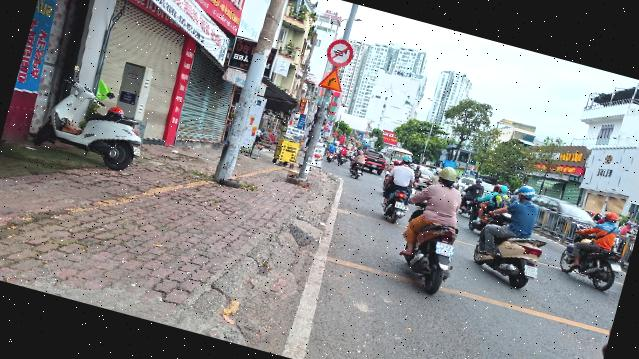cam-bop-coi: (322, 36, 356, 70)
cho-ngoat-nguy-hiem-ben-trai: (316, 63, 347, 92)
